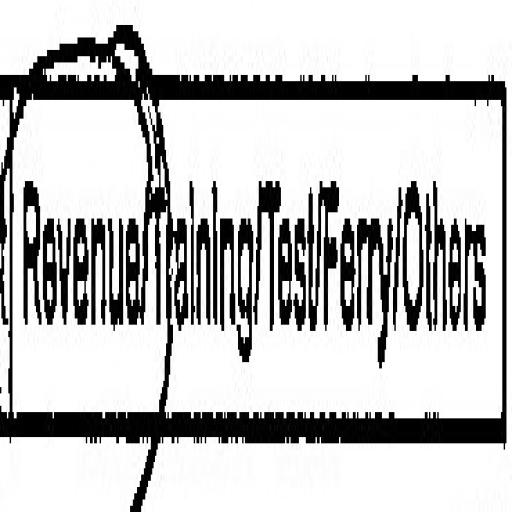check: (10, 0, 155, 512)
